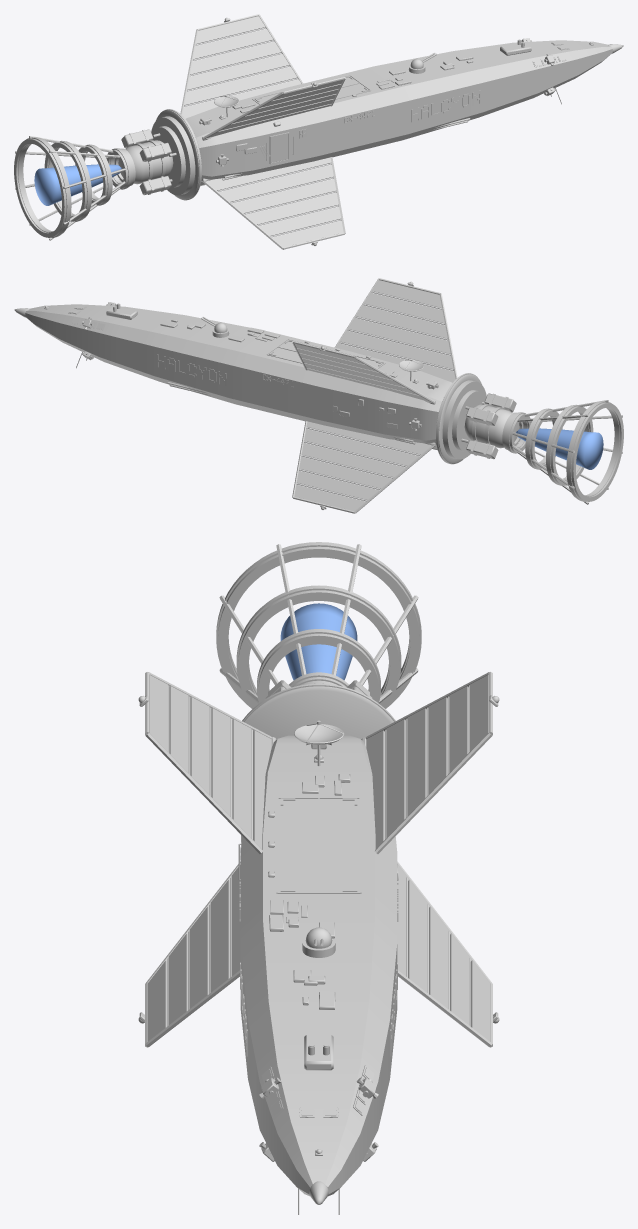
The model's file is CourierShip.fbx.
3 renders of one model, top to bottom at view 1: azimuth 30°, elevation 25°; view 2: azimuth 150°, elevation 25°; view 3: azimuth 270°, elevation 25°, orthographic. The views are drawn at different scales.
Visible parts, largest first — view 1: Body, Engine; view 2: Body, Engine; view 3: Body, Engine.
Part boxes in pixels (x1,y1,x2,y2): Body: [14, 14, 623, 249]; Engine: [34, 164, 121, 205]; Body: [14, 278, 623, 513]; Engine: [516, 428, 603, 469]; Body: [138, 542, 499, 1214]; Engine: [280, 603, 357, 680].
Bounding box in the file's own units: 1 × 0.2671 × 0.2671.
